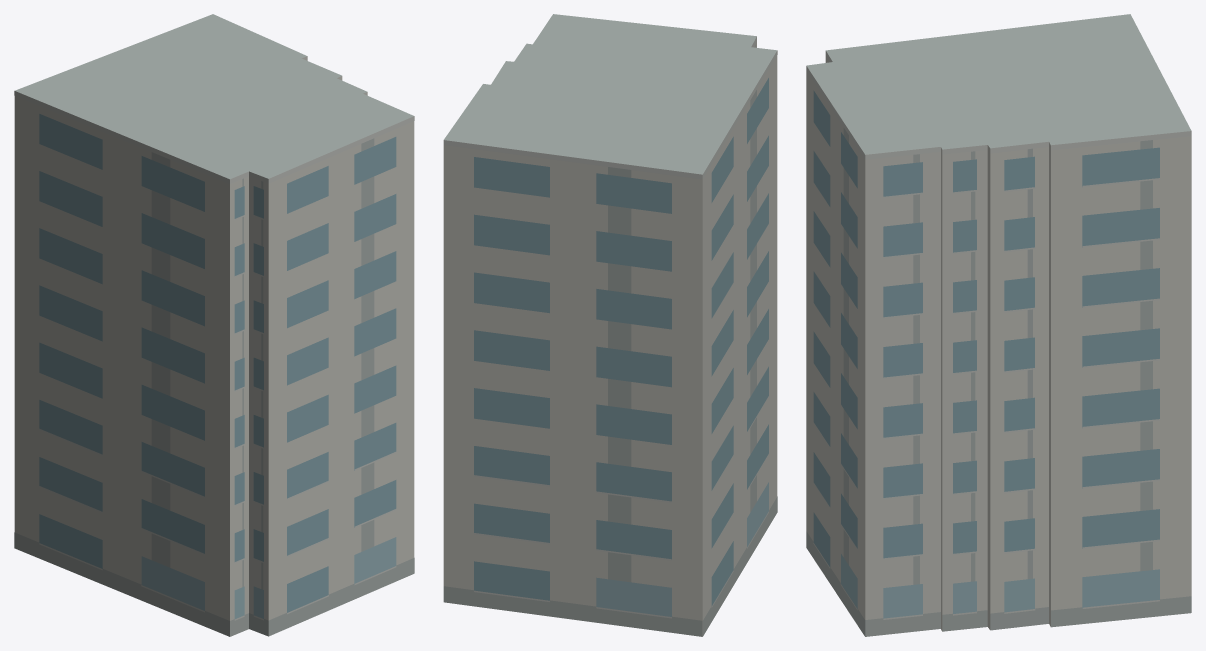
File: survey-upis-32915393.glb
The picture shows the model from 3 angles, left to right: view 1: azimuth 30°, elevation 25°; view 2: azimuth 150°, elevation 25°; view 3: azimuth 270°, elevation 25°; orthographic projection. The views are drawn at different scales.
Parts seen in each view (by area): view 1: survey-upis-32915393.tmp; view 2: survey-upis-32915393.tmp; view 3: survey-upis-32915393.tmp.
Boxes of the visible parts, x1,y1,x2,y2 form: survey-upis-32915393.tmp: [14, 14, 414, 636]; survey-upis-32915393.tmp: [443, 14, 777, 636]; survey-upis-32915393.tmp: [806, 14, 1191, 636].
Size of the model in its own units: 14.49 by 23.1 by 16.74.
